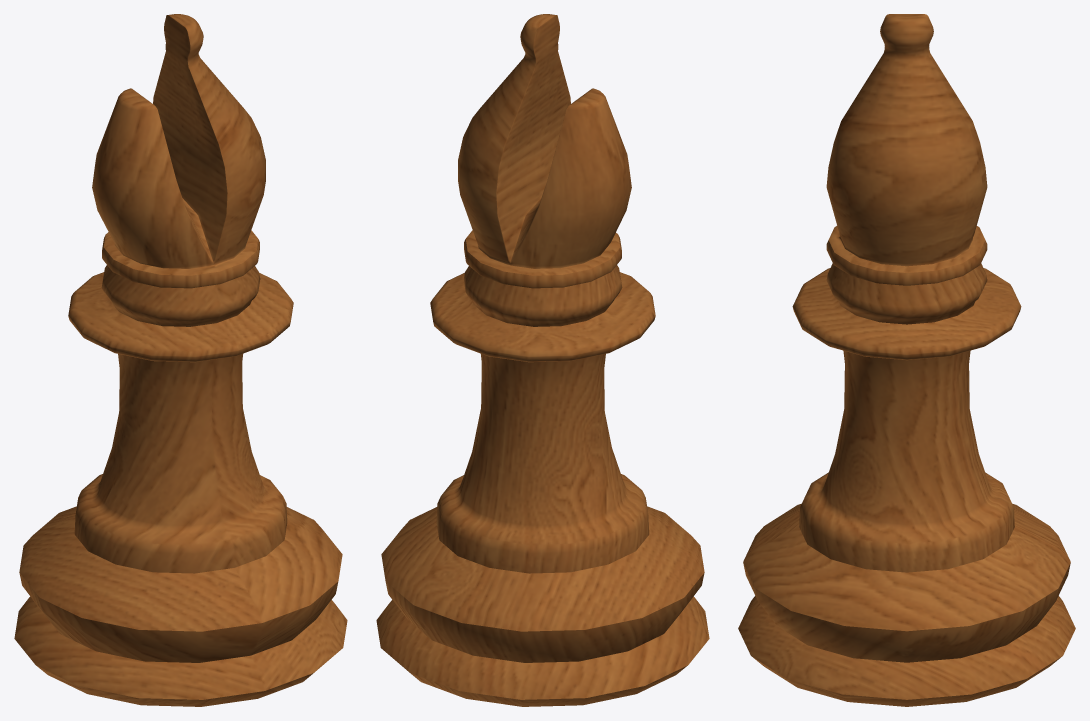
The model's file is SM_Whitebishop.fbx.
3 renders of one model, left to right at view 1: azimuth 30°, elevation 25°; view 2: azimuth 150°, elevation 25°; view 3: azimuth 270°, elevation 25°, orthographic.
Parts seen in each view (by area): view 1: SM_Whitebishop; view 2: SM_Whitebishop; view 3: SM_Whitebishop.
Boxes of the visible parts, x1=… form: SM_Whitebishop: x1=14, y1=14, x2=347, y2=706; SM_Whitebishop: x1=376, y1=14, x2=709, y2=706; SM_Whitebishop: x1=738, y1=14, x2=1075, y2=706.
Bounding box in the file's own units: 7.37 × 15.22 × 7.37.
